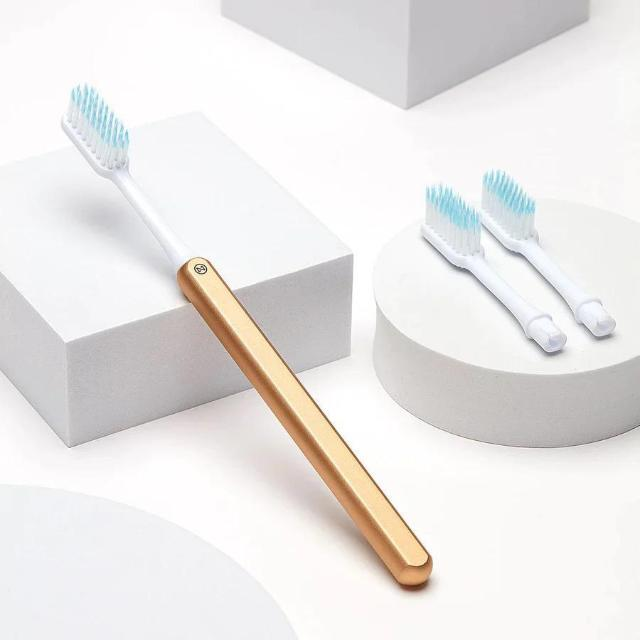toothbrush: (34, 82, 235, 298)
